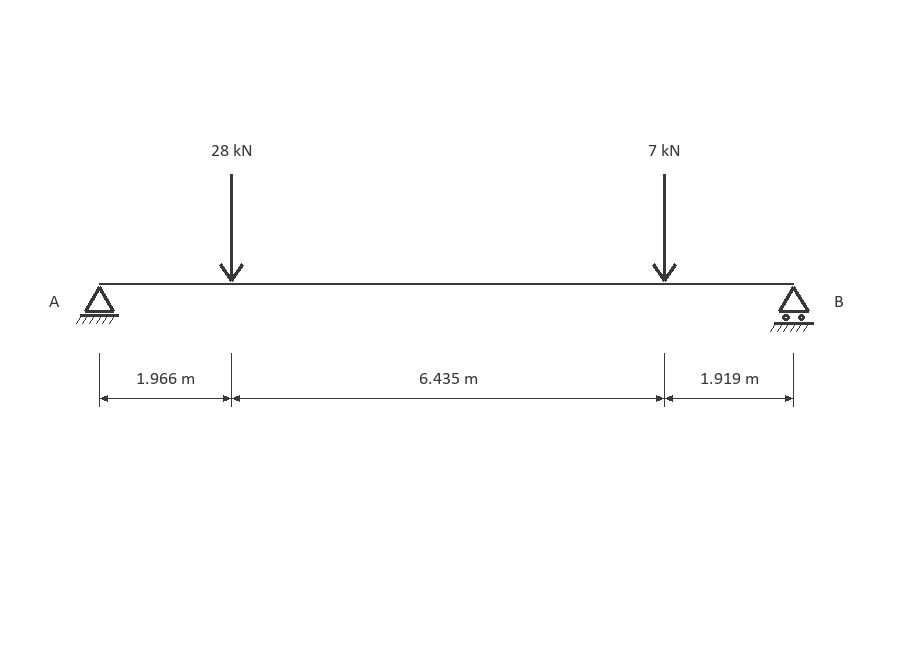pin_support: (76, 286, 119, 324)
point_load: (219, 174, 244, 282), (652, 174, 677, 282)
roller_support: (770, 286, 814, 332)
